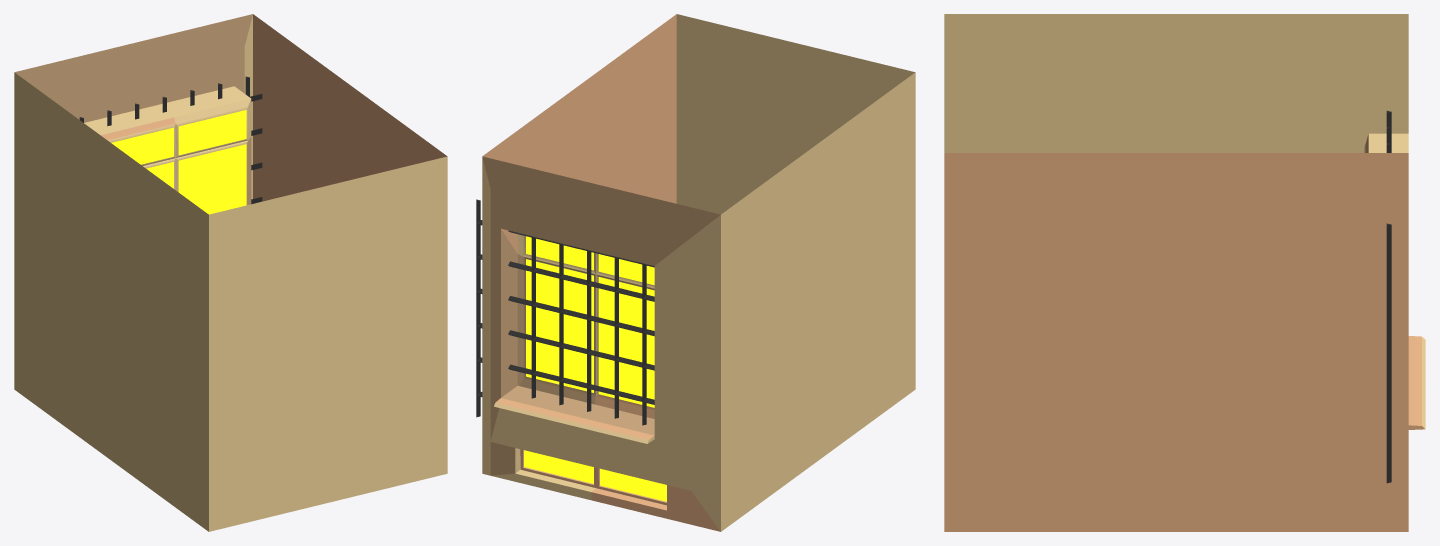
The model's file is other_window.fbx.
The picture shows the model from 3 angles, left to right: view 1: azimuth 30°, elevation 25°; view 2: azimuth 150°, elevation 25°; view 3: azimuth 270°, elevation 25°; orthographic projection. The views are drawn at different scales.
Parts seen in each view (by area): view 1: polySurface8, Grid_pPrism5; view 2: polySurface8, Grid_pPrism5; view 3: polySurface8, Grid_pPrism5.
Boxes of the visible parts, x1,y1,x2,y2 form: polySurface8: [14, 14, 447, 531]; Grid_pPrism5: [79, 76, 262, 204]; polySurface8: [482, 14, 915, 531]; Grid_pPrism5: [476, 199, 654, 425]; polySurface8: [944, 14, 1425, 531]; Grid_pPrism5: [1386, 110, 1391, 483].
Size of the model in its own units: 4.17 by 4.98 by 5.74.
